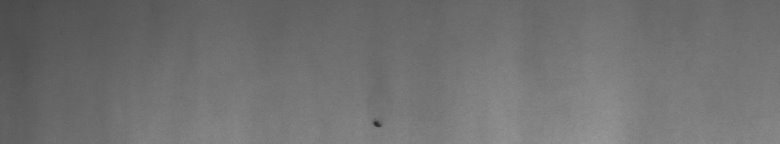fi: (369, 112, 384, 136)
